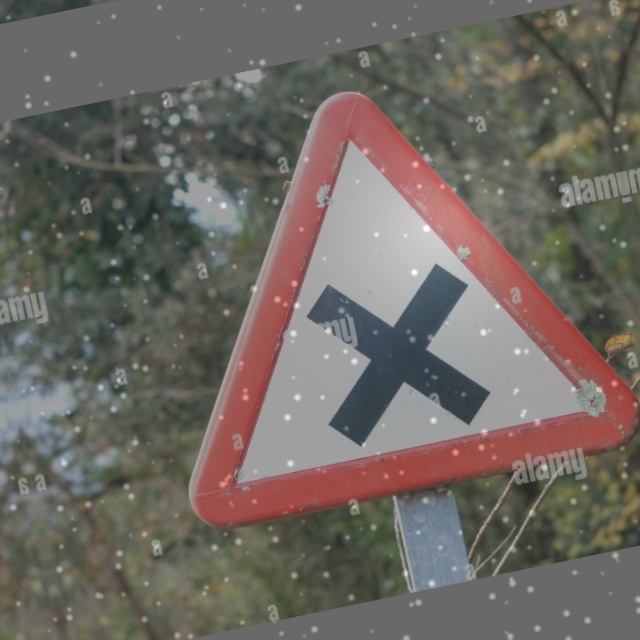Cross_Road: (123, 46, 639, 532)
